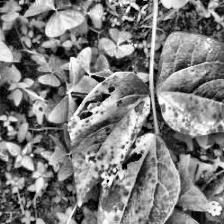ALS: (66, 83, 151, 199), (158, 40, 224, 136), (89, 174, 175, 224)
